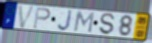8: (118, 15, 134, 38)
J: (56, 9, 73, 32)
M: (73, 11, 96, 35)
P: (32, 7, 52, 30)
S: (99, 13, 116, 37)
V: (17, 4, 37, 29)
